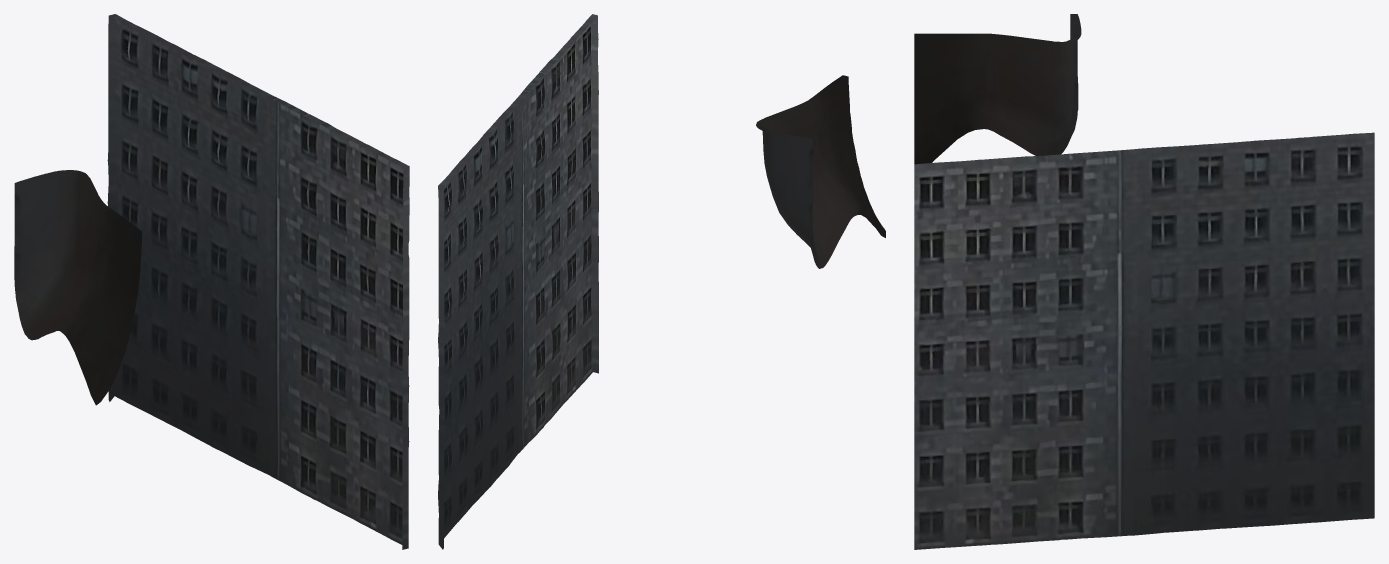
Rendered from z20-167767-405237-h1-yup-uvflip-v3-world.glb.
3 views of the same model, side by side, from view 1: azimuth 30°, elevation 25°; view 2: azimuth 150°, elevation 25°; view 3: azimuth 270°, elevation 25° (orthographic). The views are drawn at different scales.
Bounding box in the file's own units: 23.92 × 28.2 × 30.32.
1 material, 1 textured.
